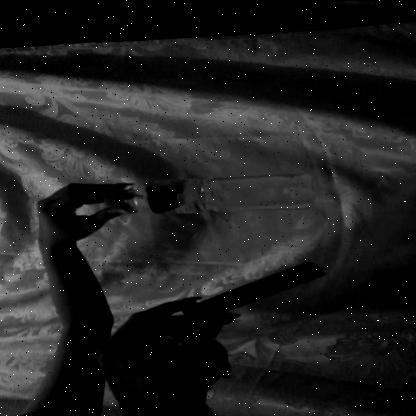Plastic Bottle: (97, 151, 351, 228)
